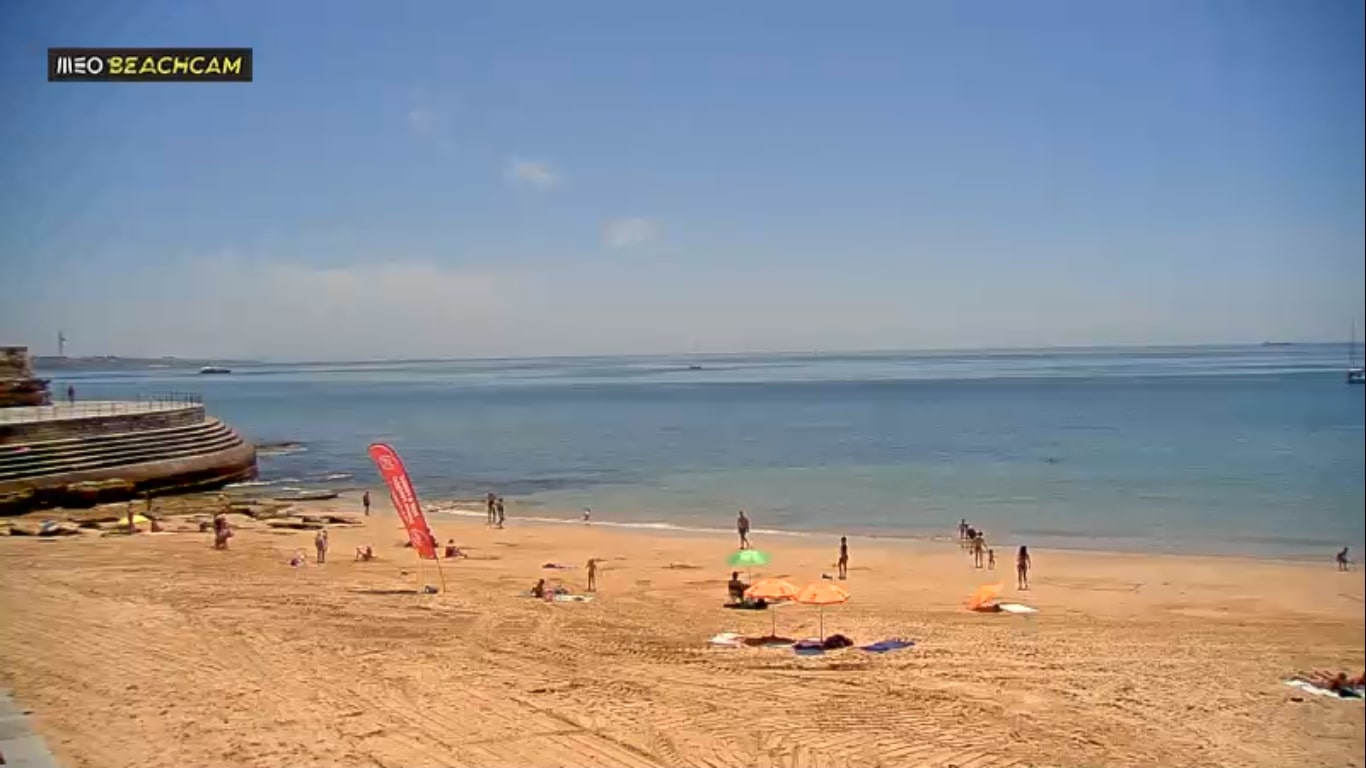person: (1291, 670, 1349, 688), (1015, 543, 1032, 589), (725, 567, 745, 606), (735, 511, 752, 548), (970, 531, 985, 569), (583, 557, 599, 592), (838, 535, 850, 579), (213, 514, 226, 550), (313, 530, 327, 562), (1335, 544, 1351, 571), (442, 538, 466, 556), (530, 578, 545, 598), (355, 544, 372, 560), (497, 496, 505, 528), (361, 490, 370, 517), (958, 517, 968, 541), (125, 501, 134, 527), (488, 494, 495, 521), (67, 383, 75, 405), (988, 548, 995, 567)
